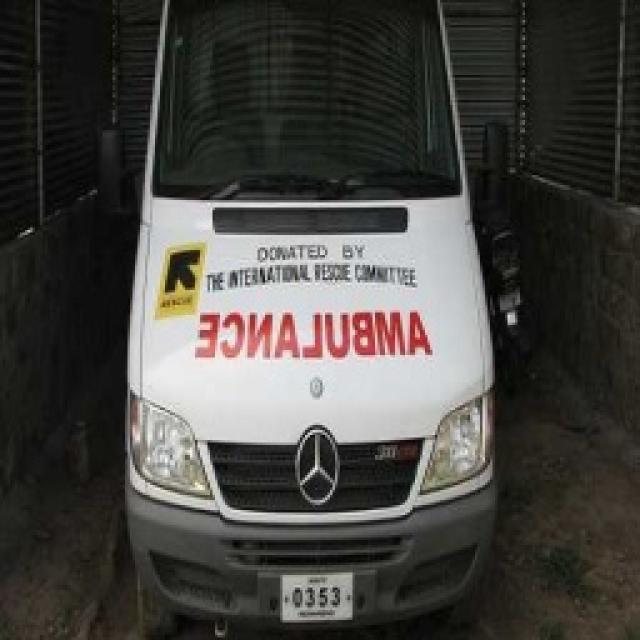emergency-vehicle: (127, 0, 497, 623)
